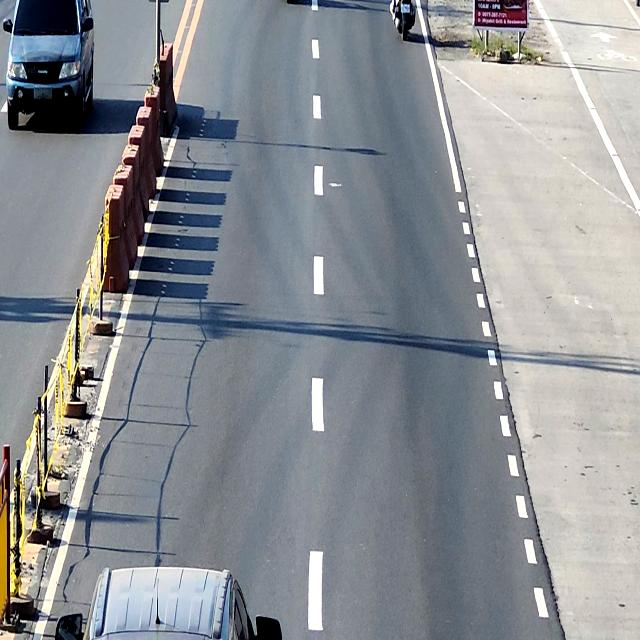Car: (55, 569, 282, 640), (3, 0, 95, 131)
License-Plate: (33, 88, 52, 100), (401, 4, 410, 12)
Motorcycle: (394, 0, 416, 42)
